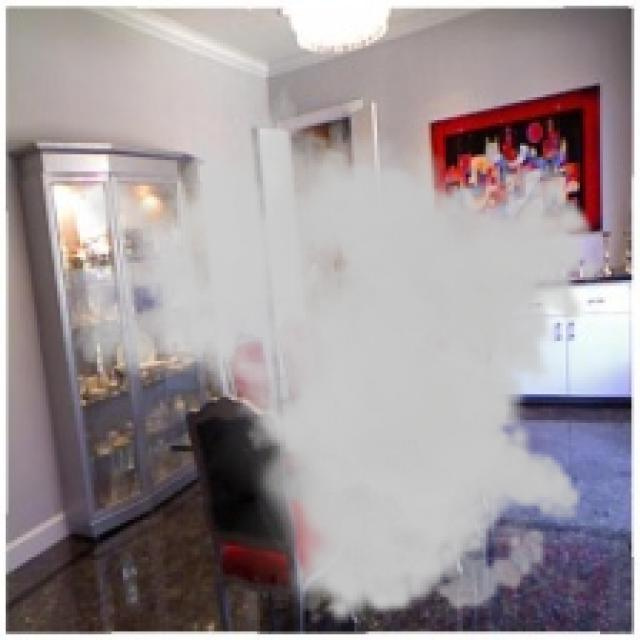smoke: (69, 69, 606, 626)
